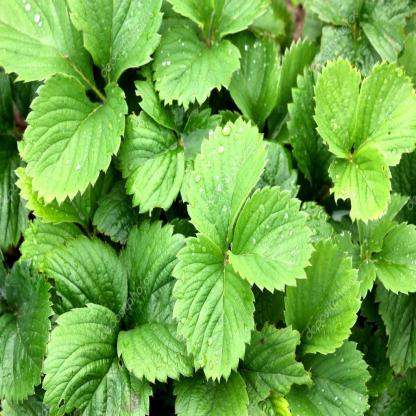strawberry leaf: (113, 199, 216, 388), (19, 71, 130, 205), (180, 104, 269, 257), (174, 231, 257, 382), (234, 180, 317, 298), (148, 19, 245, 105), (325, 145, 400, 231), (355, 67, 416, 165), (316, 53, 364, 160)
